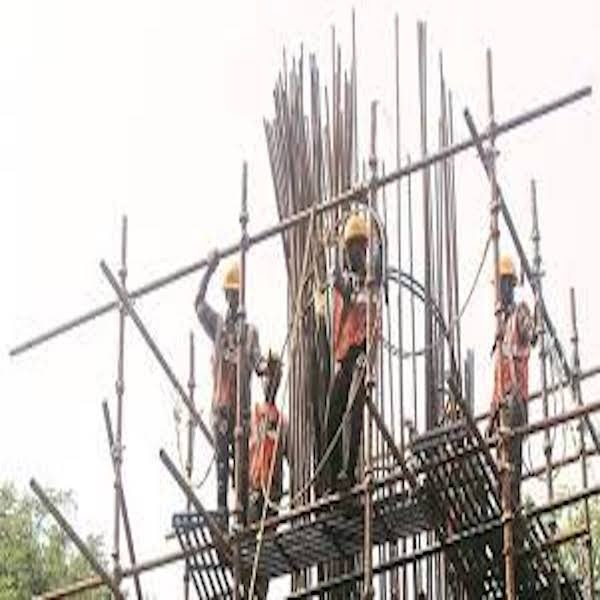helmet: (338, 211, 372, 242), (222, 262, 245, 294), (492, 258, 521, 281)
vest: (331, 257, 378, 362), (494, 303, 534, 422), (213, 309, 249, 427)
